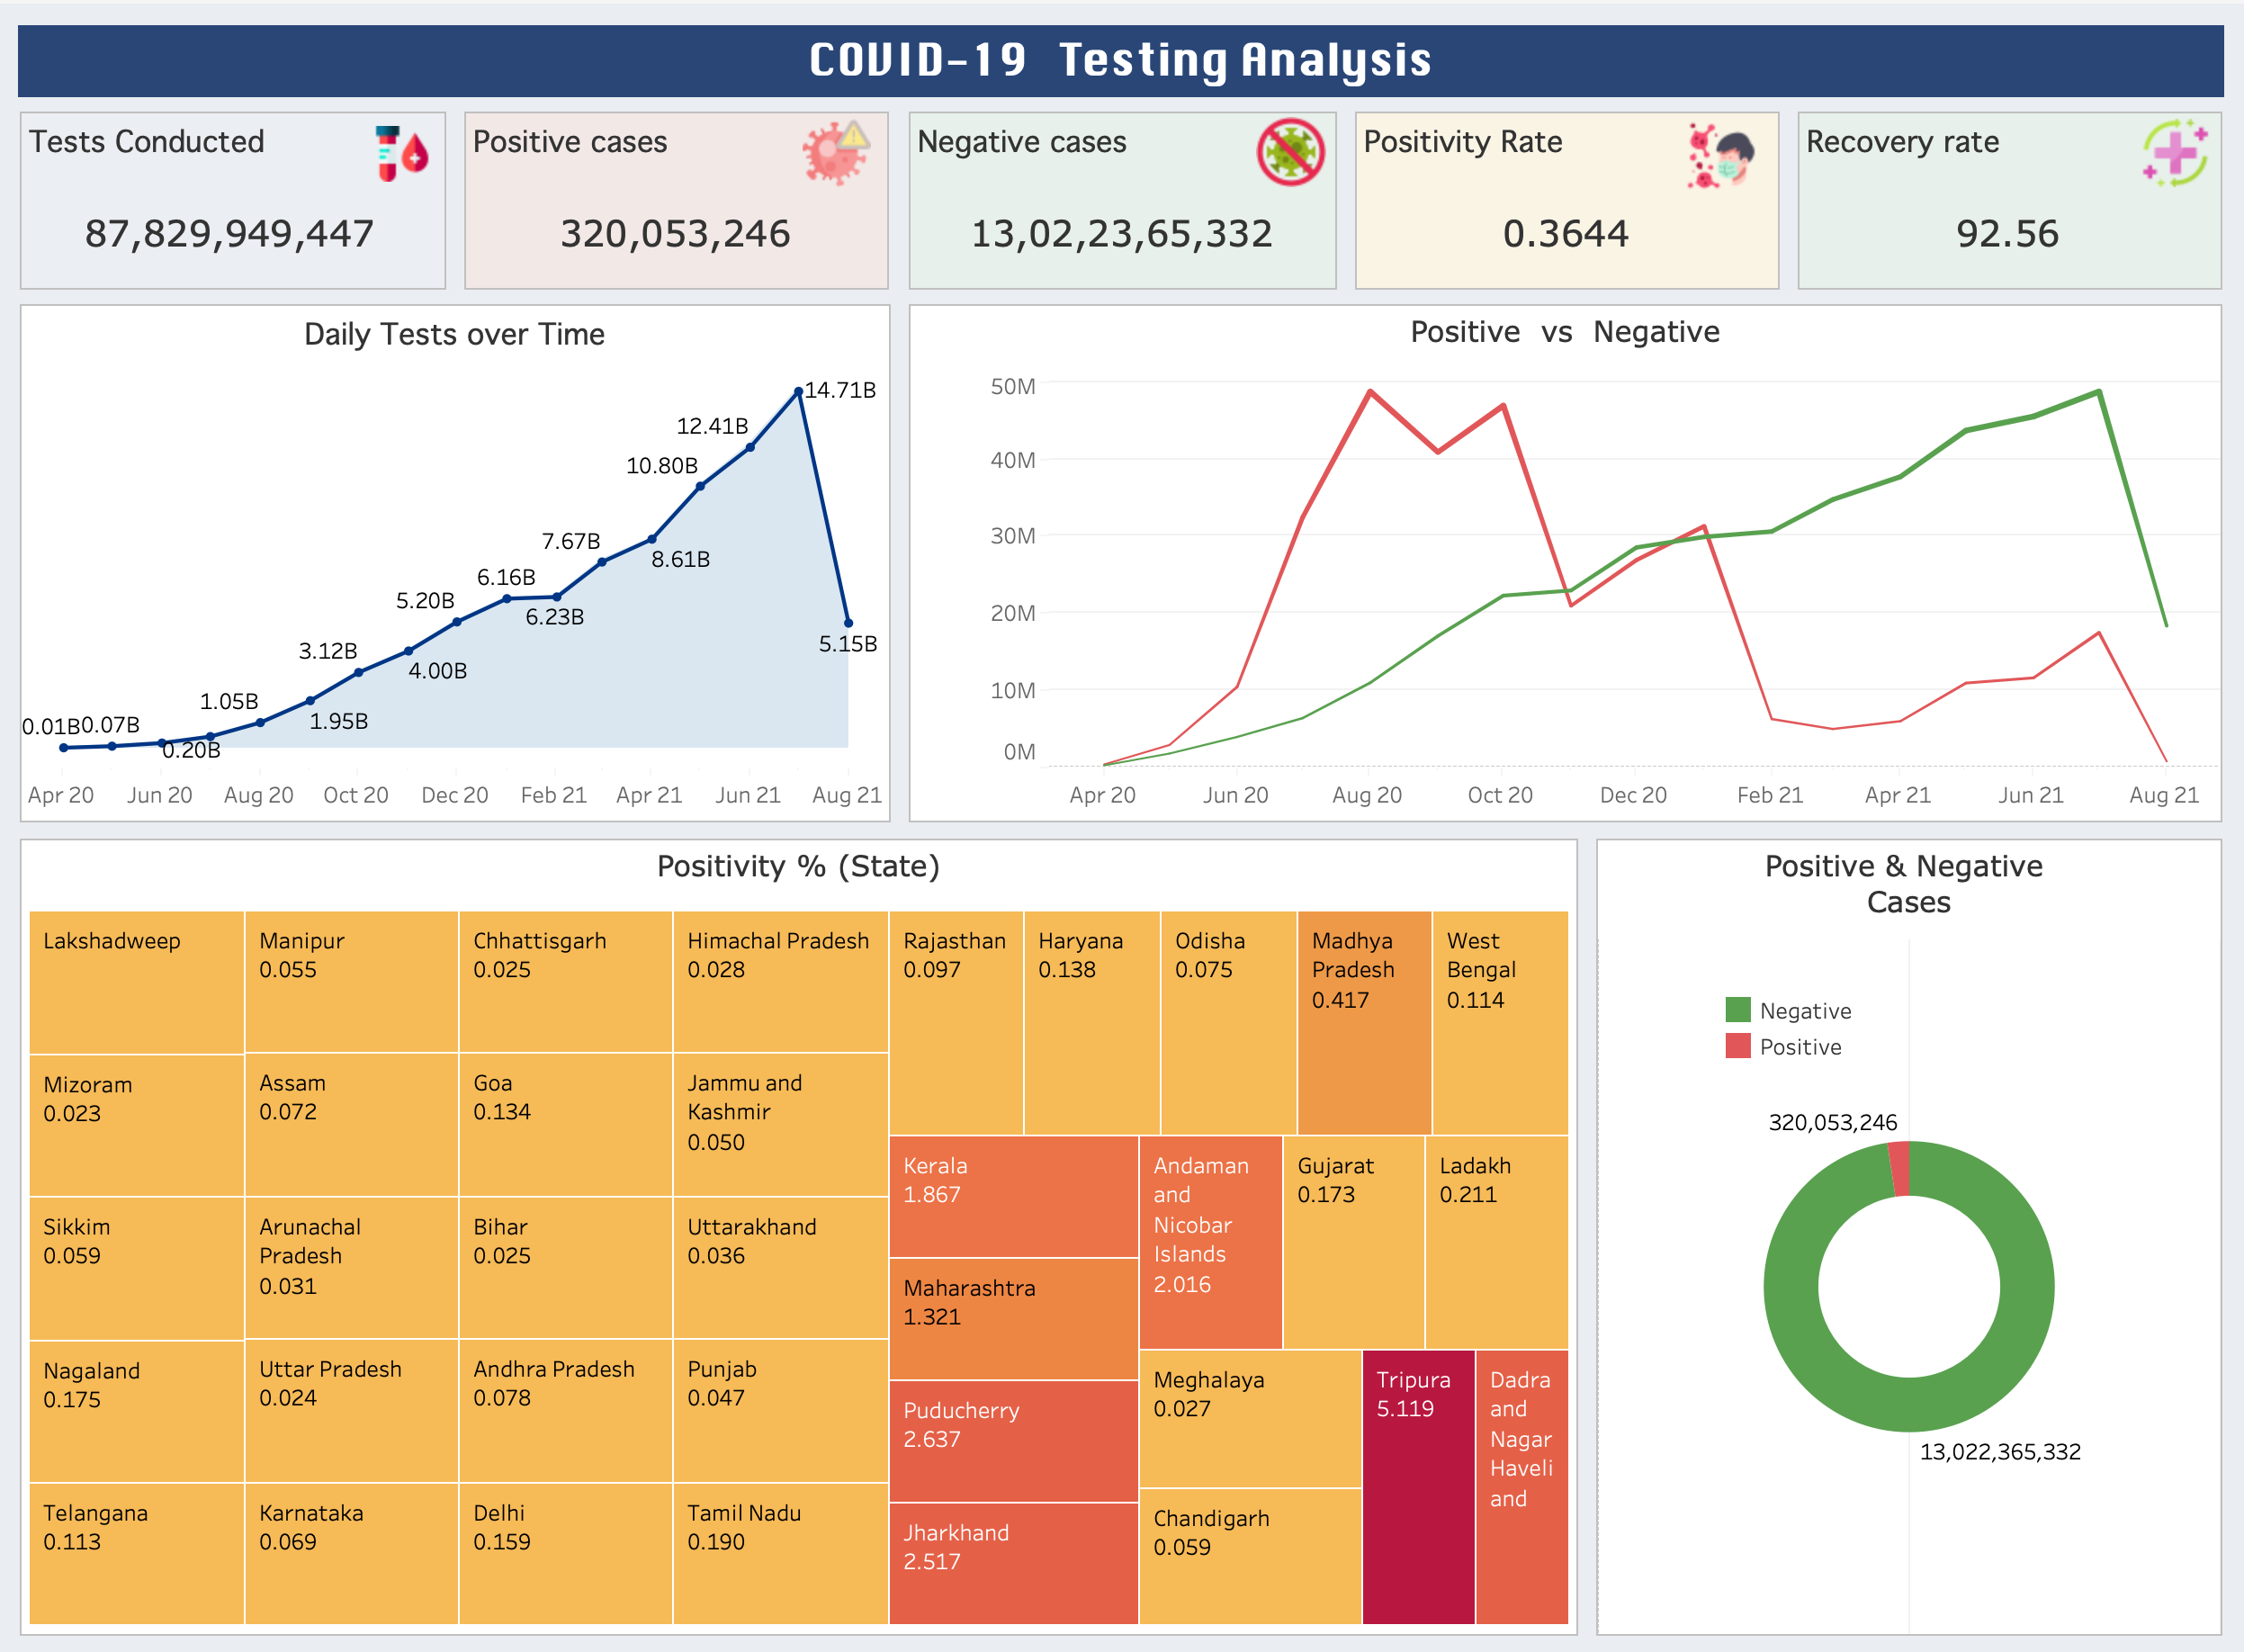

The dashboard page shown, as its layout file describes it:
{"tool":"tableau","page":{"name":"Testing analysis Dashboard","canvas":[1000,1000],"units":"permille","ordinal":1},"visuals":[{"type":"title","box":[6.4,8.7,987.2,52.2]},{"type":"worksheet","title":"Tests Conducted","mark":"Automatic","box":[6.4,61,197.8,116.4]},{"type":"worksheet","title":"Positive cases","mark":"Automatic","box":[204.2,61,197,116.4]},{"type":"worksheet","title":"Negative Cases","mark":"Automatic","box":[401.2,61,198.4,116.4]},{"type":"worksheet","title":"Positivity rate","mark":"Automatic","box":[599.6,61,197,116.4]},{"type":"worksheet","title":"Recovery Rate","mark":"Automatic","box":[796.6,61,197,116.4]},{"type":"image","param":"Image/-ve.png","box":[560,68.5,33.6,42.4]},{"type":"image","param":"Image/+ve.png","box":[358.4,69.6,34.4,41.4]},{"type":"image","param":"Image/percentage.png","box":[953.6,69.6,36.8,41.4]},{"type":"image","param":"Image/+vepercentage.png","box":[751.2,70.7,38.4,42.4]},{"type":"image","param":"Image/blood-test.png","box":[168,74,28,33.7]},{"type":"worksheet","title":"Daily Testing Trend","mark":"Area","rows":["TotalSamples","TotalSamples"],"cols":["Date"],"box":[6.4,177.4,395.1,322.6]},{"type":"worksheet","title":"Positive  vs  Negative","mark":"Automatic","rows":["Positive","Negative"],"cols":["Date"],"box":[401.5,177.4,592.1,322.6]},{"type":"worksheet","title":"Positivity % (state)","mark":"Automatic","box":[6.4,500,700.8,491.3]},{"type":"worksheet","title":"Positive - Negative","mark":"Pie","cols":["Calculation_110901191173914625","Calculation_110901191174004739"],"box":[707.2,500,286.4,491.3]},{"type":"legend","title":"Positive  vs  Negative","param":"[federated.0so5y7b1pyxi0916gh9s4043mwvx].[:Measure Names]","box":[766.5,577.5,111.2,64]}]}

Visuals, with their boxes on the dashboard's canvas, which has no fixed pixel size, in thousandths of its width and height (x1, y1, x2, y2). These are canvas units, not pixel positions in the 2244x1652 screenshot, which may show the page scaled, cropped or inside an application window:
title: detection(6, 9, 994, 61)
"Tests Conducted" worksheet: detection(6, 61, 204, 177)
"Positive cases" worksheet: detection(204, 61, 401, 177)
"Negative Cases" worksheet: detection(401, 61, 600, 177)
"Positivity rate" worksheet: detection(600, 61, 797, 177)
"Recovery Rate" worksheet: detection(797, 61, 994, 177)
image: detection(560, 68, 594, 111)
image: detection(358, 70, 393, 111)
image: detection(954, 70, 990, 111)
image: detection(751, 71, 790, 113)
image: detection(168, 74, 196, 108)
"Daily Testing Trend" worksheet (Area marks): detection(6, 177, 402, 500)
"Positive  vs  Negative" worksheet: detection(402, 177, 994, 500)
"Positivity % (state)" worksheet: detection(6, 500, 707, 991)
"Positive - Negative" worksheet (Pie marks): detection(707, 500, 994, 991)
"Positive  vs  Negative" legend: detection(766, 578, 878, 642)
